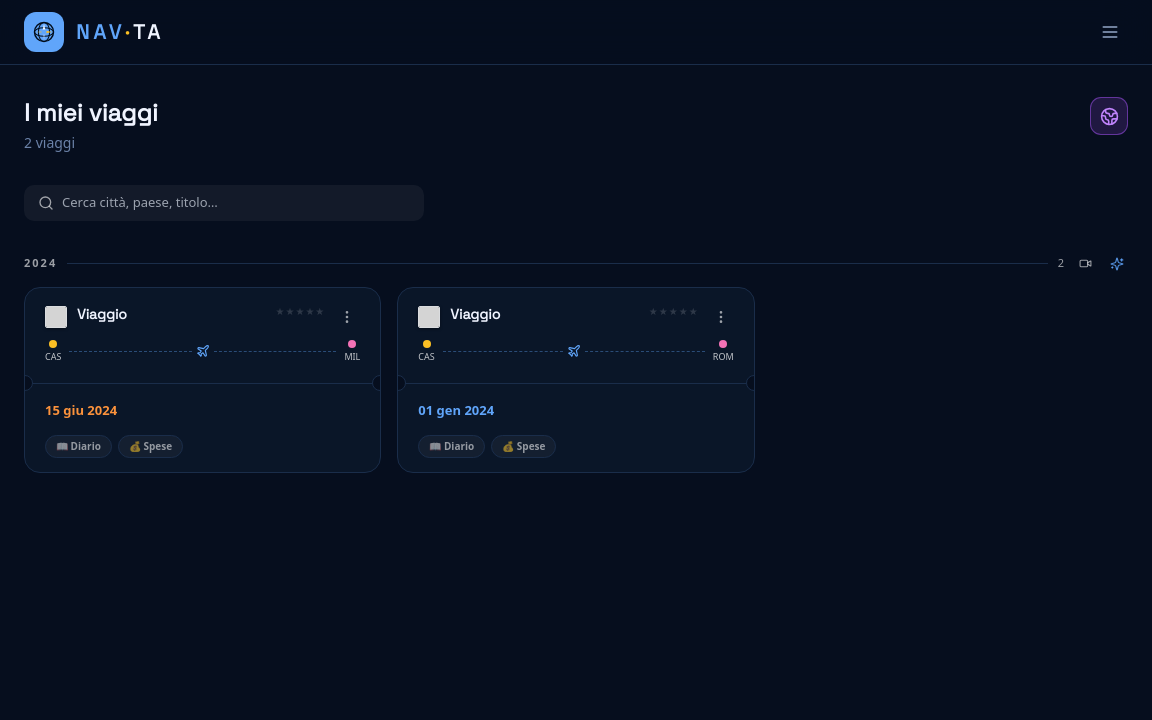
Test: MieiViaggi — recap 3D per anno › click sul bottone di recap apre la modale del flyover
Click the button named "Rivivi il 2024 in 3D" at (1085, 264), box x1=1074 y1=252 x2=1096 y2=274
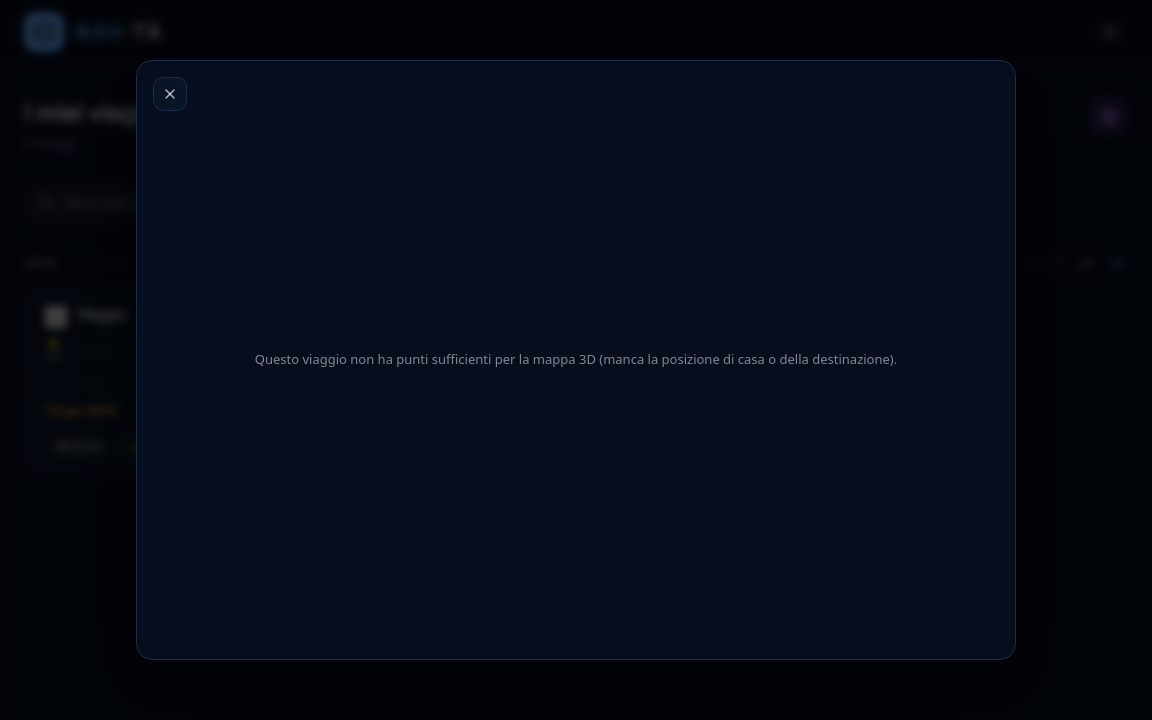
Expected: the button named "Chiudi" is shown, x1=153 y1=77 x2=187 y2=111
